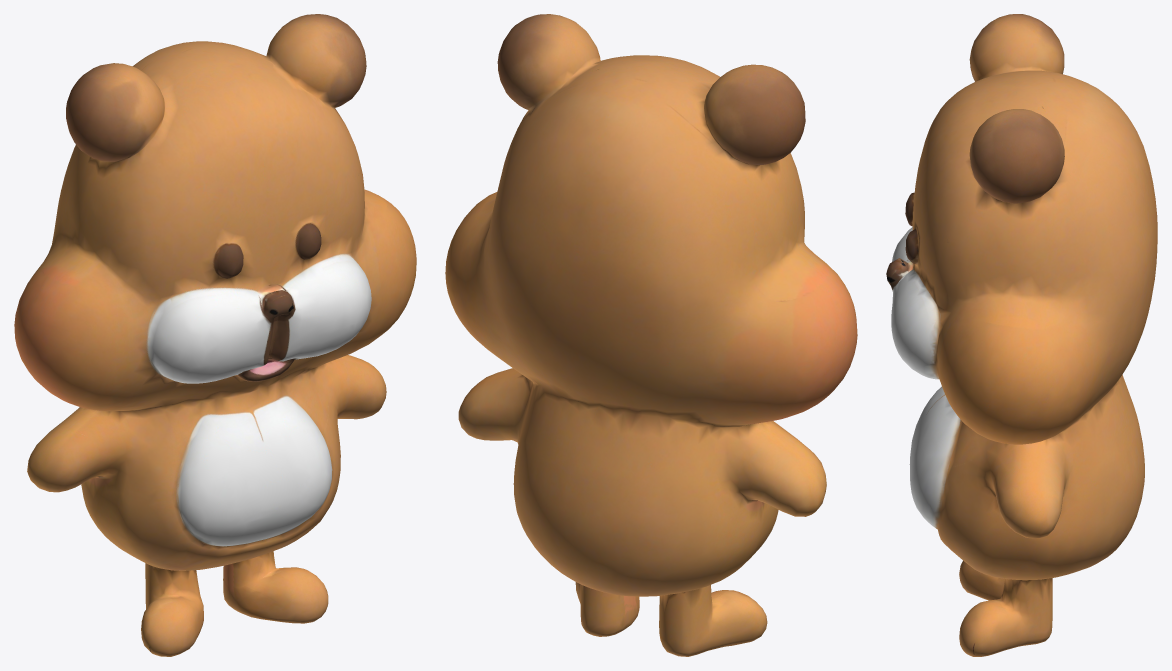
The model's file is marmet.glb.
3 views of the same model, side by side, from view 1: azimuth 30°, elevation 25°; view 2: azimuth 150°, elevation 25°; view 3: azimuth 270°, elevation 25° (orthographic). The views are drawn at different scales.
Size of the model in its own units: 1.38 by 2 by 0.8855.
Materials: 1 (1 with a texture image).
